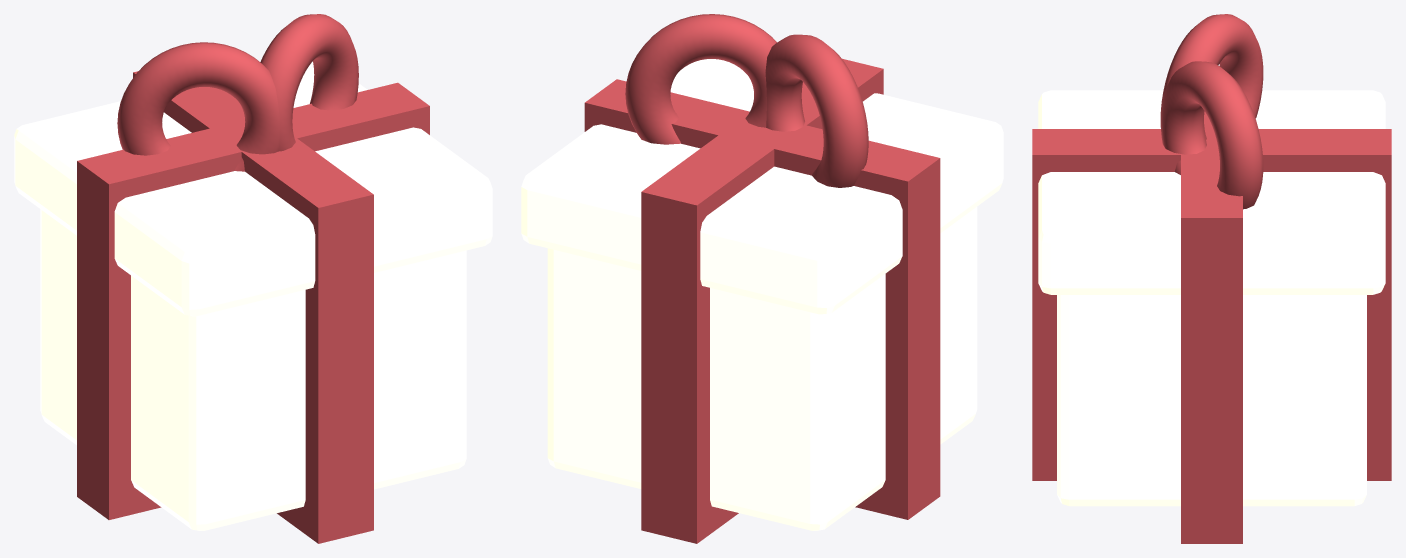
File: gift_gold.glb
3 renders of one model, left to right at view 1: azimuth 30°, elevation 25°; view 2: azimuth 150°, elevation 25°; view 3: azimuth 270°, elevation 25°, orthographic. The views are drawn at different scales.
Parts seen in each view (by area): view 1: gift_gold_mesh; view 2: gift_gold_mesh; view 3: gift_gold_mesh.
Boxes of the visible parts, bbox=[...] form: gift_gold_mesh: bbox=[14, 14, 492, 543]; gift_gold_mesh: bbox=[521, 14, 1003, 543]; gift_gold_mesh: bbox=[1032, 14, 1391, 543].
Bounding box in the file's own units: 0.58 × 0.755 × 0.58.
